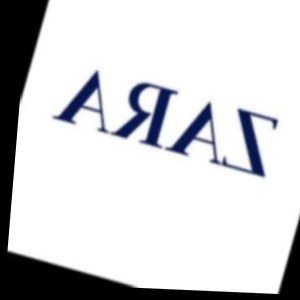zara: (275, 12, 300, 106)
